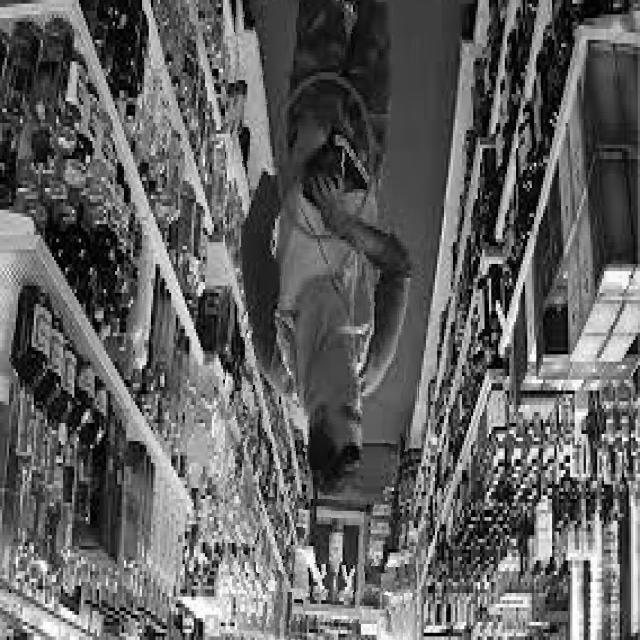Shoplifting: (225, 0, 420, 640)
